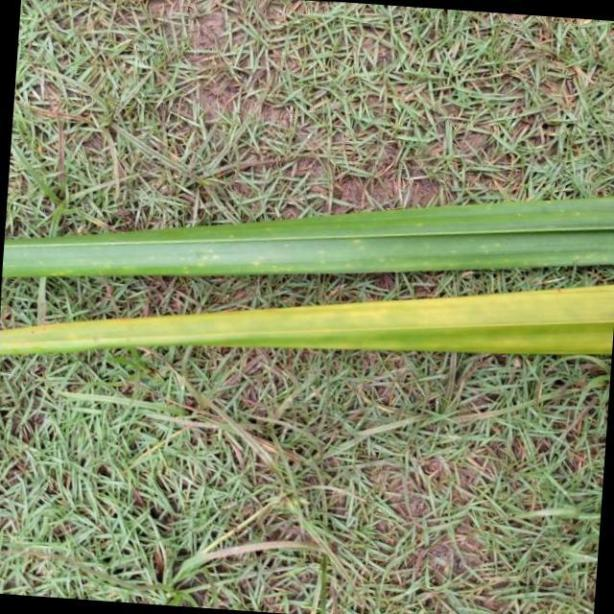nitrogen: (0, 187, 614, 277), (3, 284, 614, 359)
